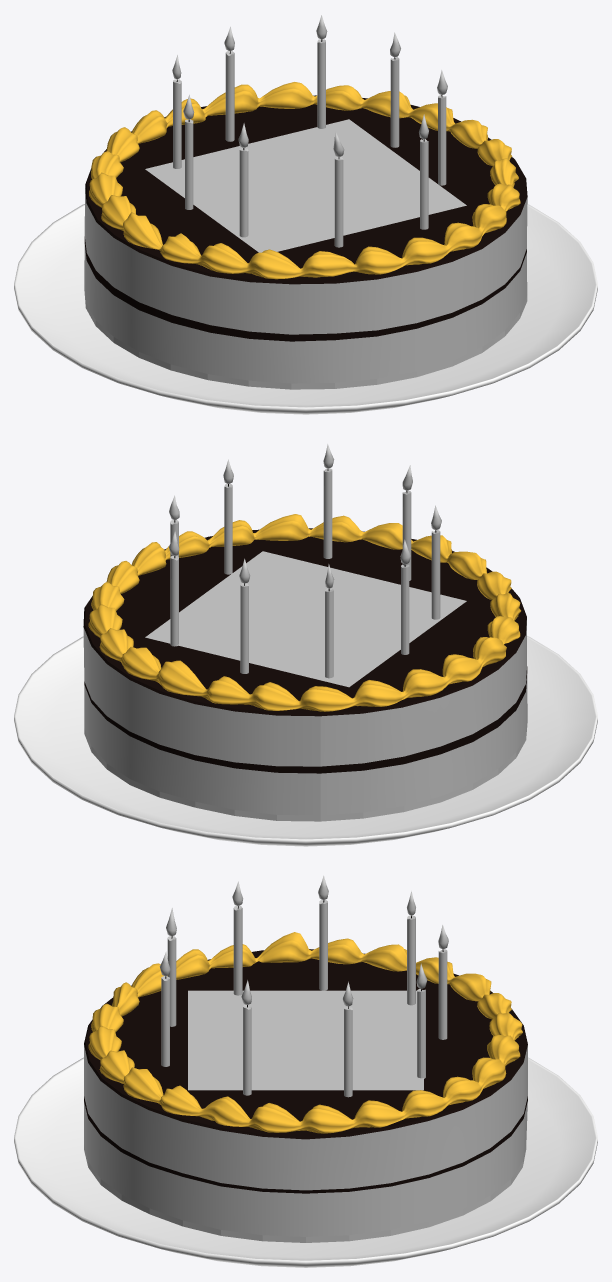
The model's file is cake.FBX.
3 views of the same model, one above another, from view 1: azimuth 30°, elevation 25°; view 2: azimuth 150°, elevation 25°; view 3: azimuth 270°, elevation 25° (orthographic).
Parts seen in each view (by area): view 1: cake; view 2: cake; view 3: cake.
Part boxes in pixels (left/top/right/bottom): cake: left=14, top=15, right=597, bottom=414; cake: left=14, top=444, right=597, bottom=846; cake: left=14, top=875, right=597, bottom=1267.
Size of the model in its own units: 60.95 by 26.97 by 60.95.
